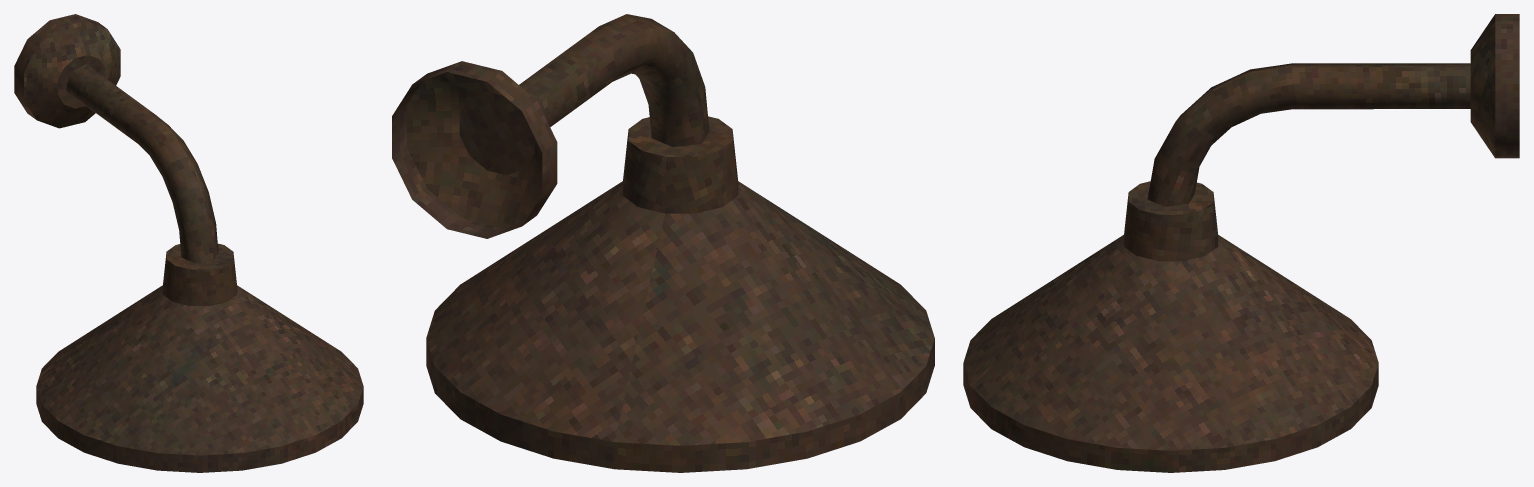
File: lamp_mx_2_on.glb
3 renders of one model, left to right at view 1: azimuth 30°, elevation 25°; view 2: azimuth 150°, elevation 25°; view 3: azimuth 270°, elevation 25°, orthographic. The views are drawn at different scales.
Visible parts, largest first — view 1: lamp_mx_2_on; view 2: lamp_mx_2_on; view 3: lamp_mx_2_on.
Part boxes in pixels (<box>): lamp_mx_2_on: <box>14,14,363,472</box>; lamp_mx_2_on: <box>392,14,934,472</box>; lamp_mx_2_on: <box>963,14,1519,472</box>.
Bounding box in the file's own units: 0.357 × 0.3682 × 0.478.
2 materials, 2 textured.
